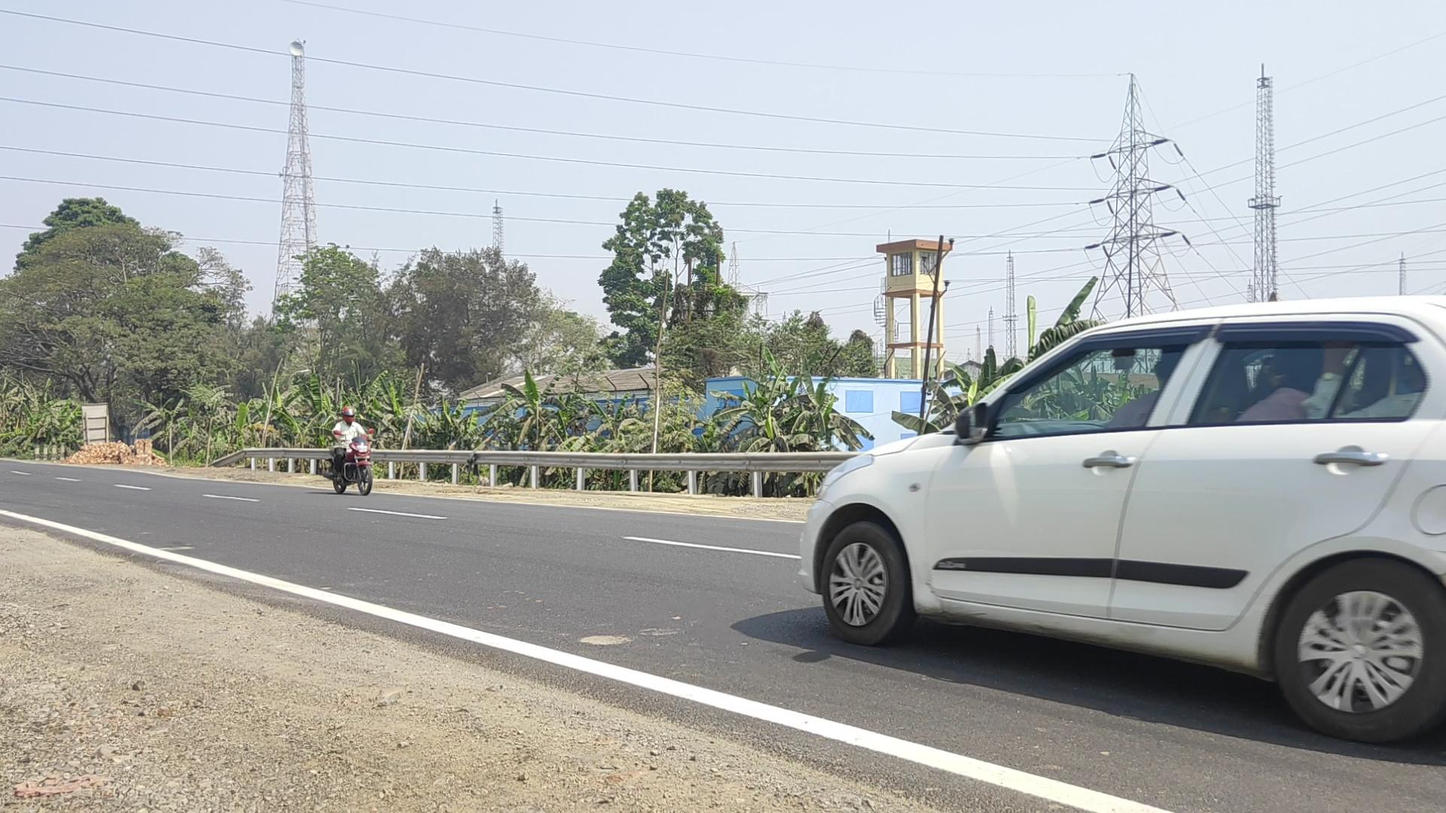bike: (322, 406, 374, 495)
car: (799, 294, 1446, 746)
